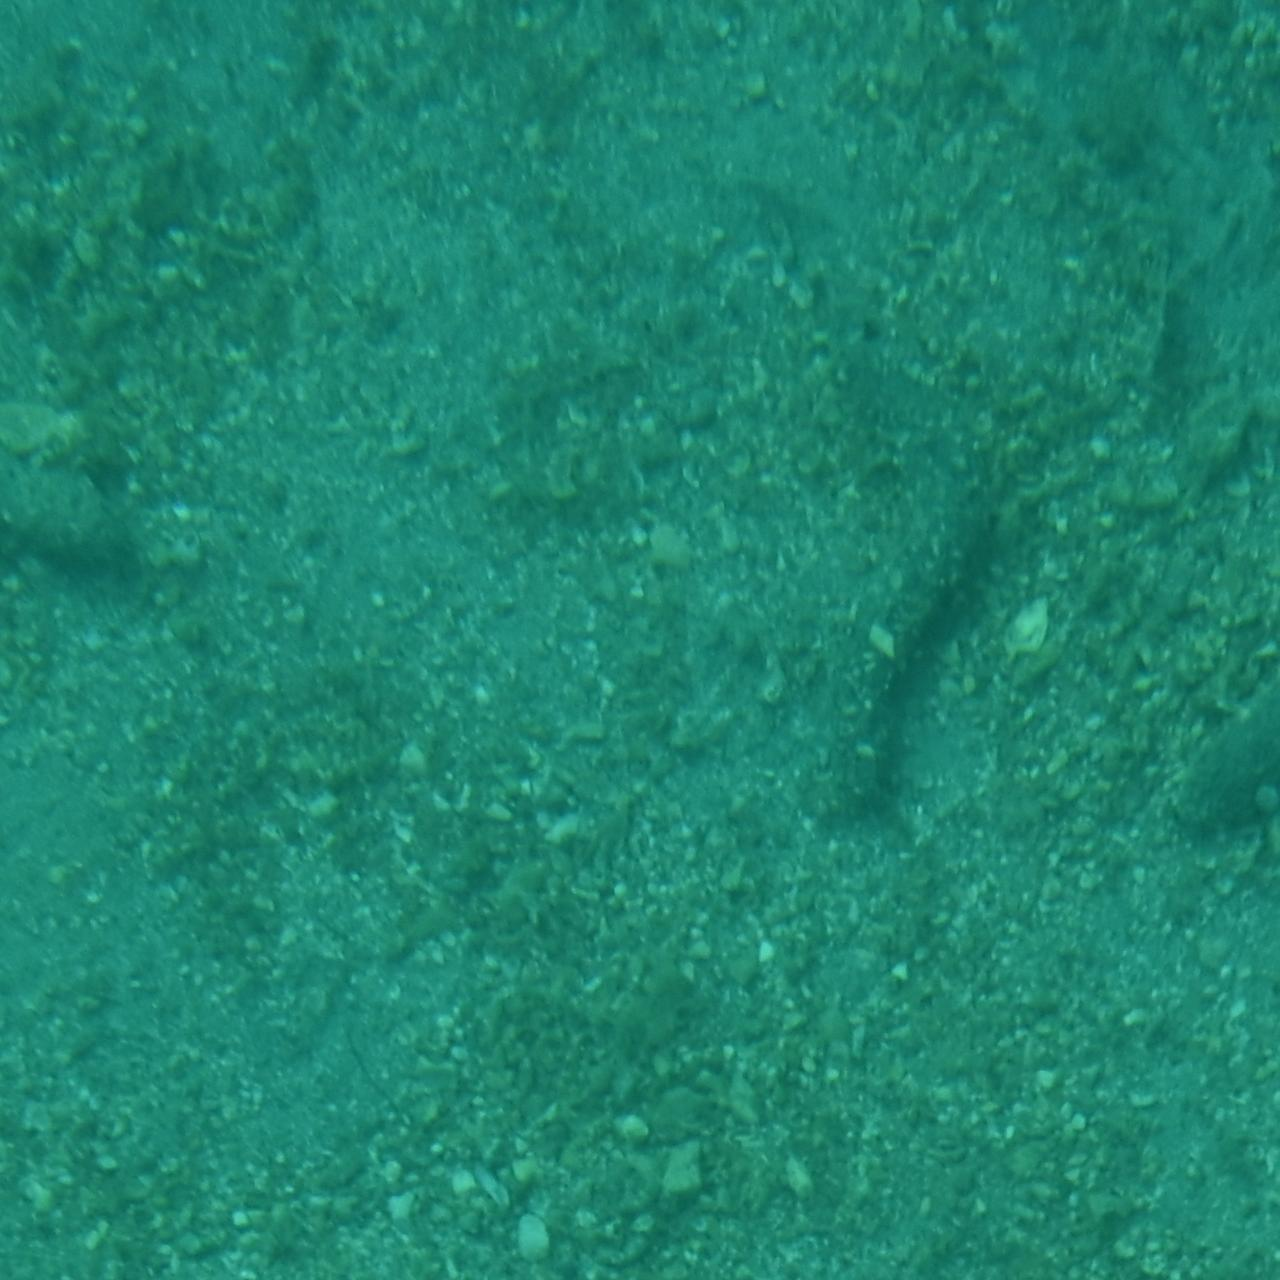Holothuria tubulosa: (791, 401, 985, 844), (1063, 610, 1280, 860), (0, 401, 256, 586)
